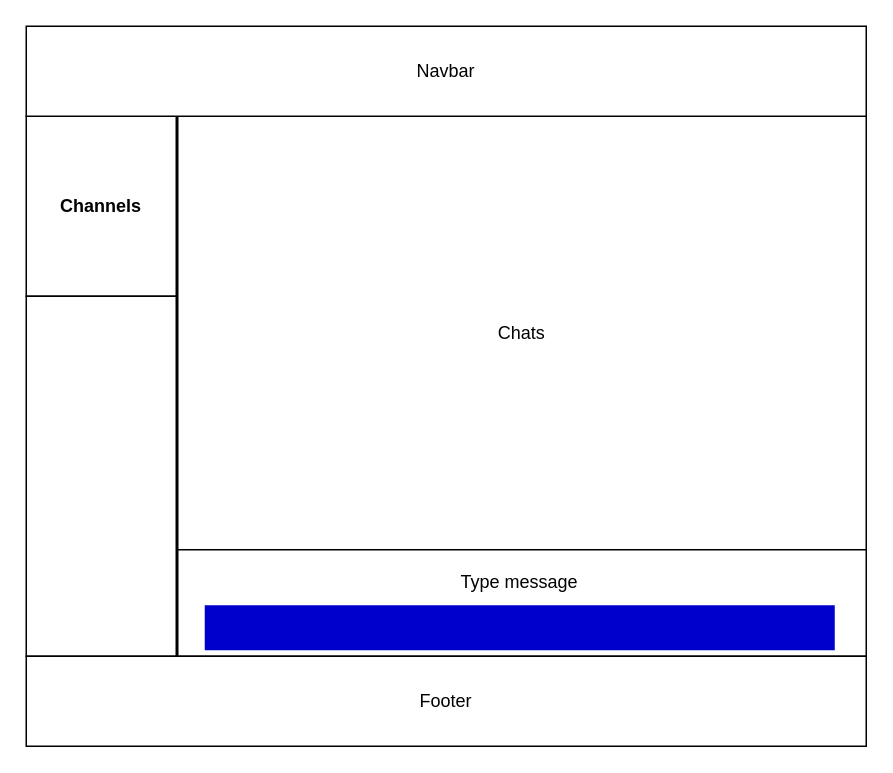
Image size: 893x773. Some labels were removed from this diagram. The shapes that lost their labels are listed below. From the top down, each one's centre as x and y in pixels, then its label:
At point 100,475: "Users".
At point 519,627: "Send button".
